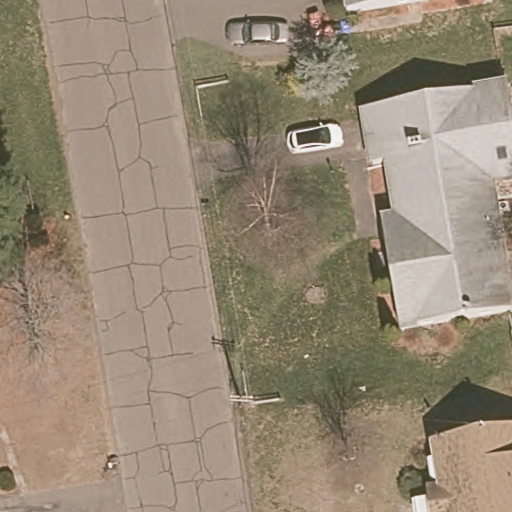DT: (229, 367, 284, 406)
